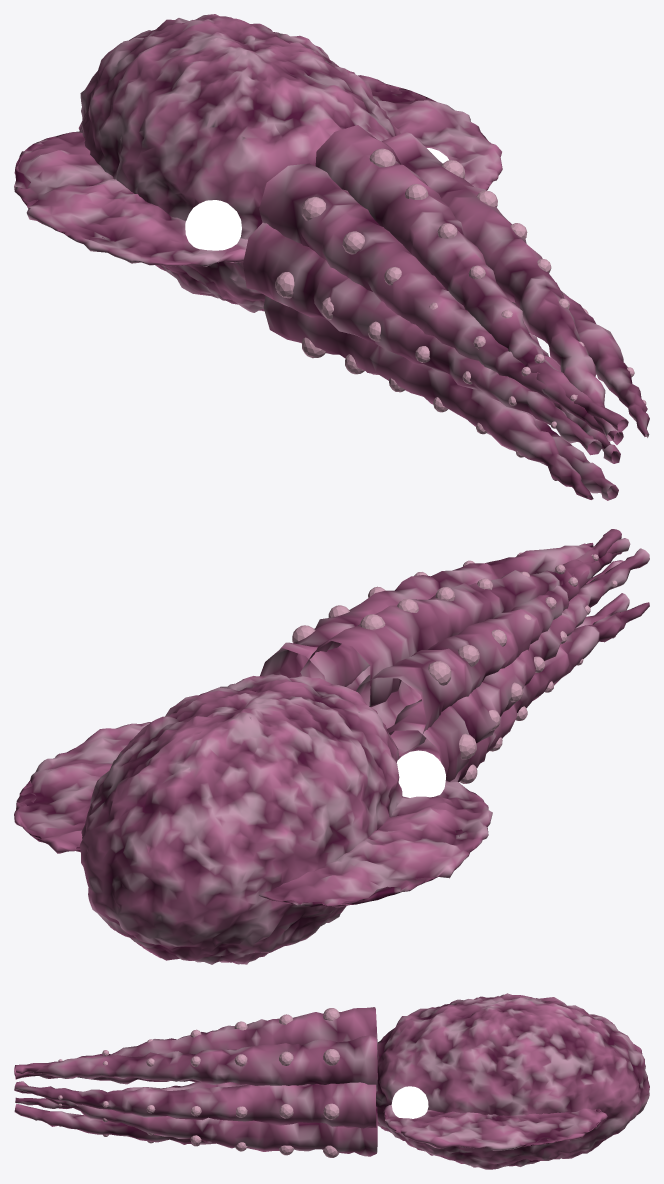
The model's file is ixil_large.glb.
3 views of the same model, one above another, from view 1: azimuth 30°, elevation 25°; view 2: azimuth 150°, elevation 25°; view 3: azimuth 270°, elevation 25° (orthographic). The views are drawn at different scales.
Parts seen in each view (by area): view 1: ixil_large.001; view 2: ixil_large.001; view 3: ixil_large.001.
Part boxes in pixels (x1,y1,x2,y2): ixil_large.001: [14, 14, 649, 500]; ixil_large.001: [14, 529, 649, 964]; ixil_large.001: [14, 993, 649, 1169].
Size of the model in its own units: 5.06 by 2.71 by 10.
